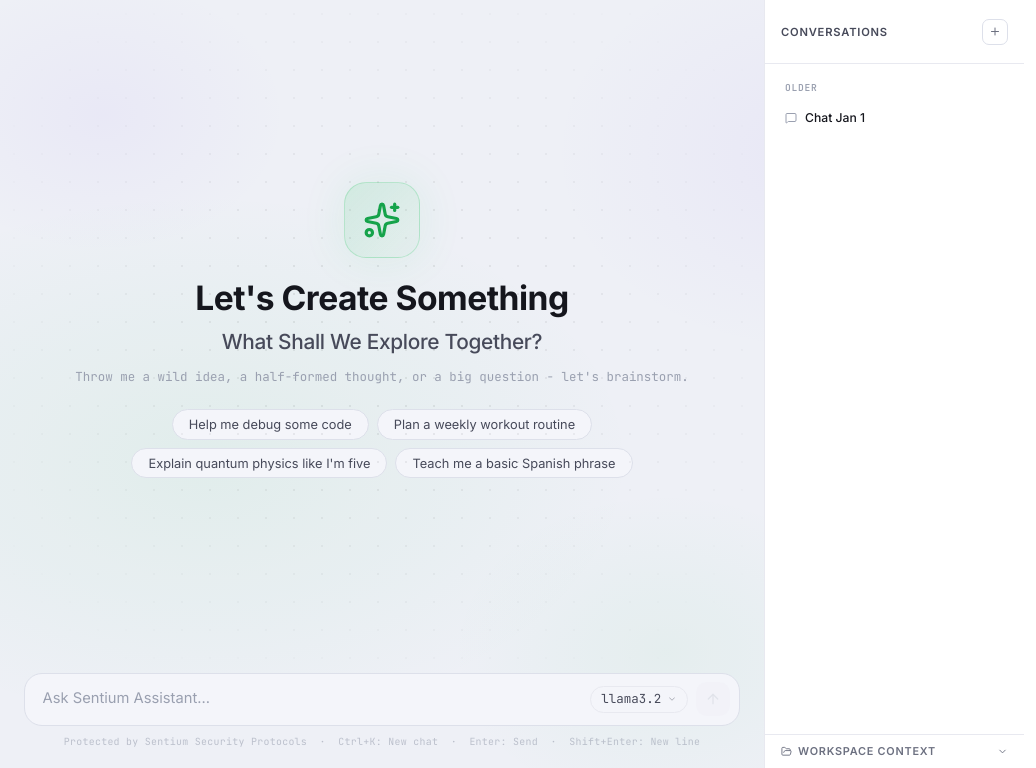
Test: Assistant message sending › send button is enabled after typing
Type "Hello" into the text box with placeholder "Ask Sentium Assistant..." at coordinates (312, 699), box [43, 687, 582, 711]
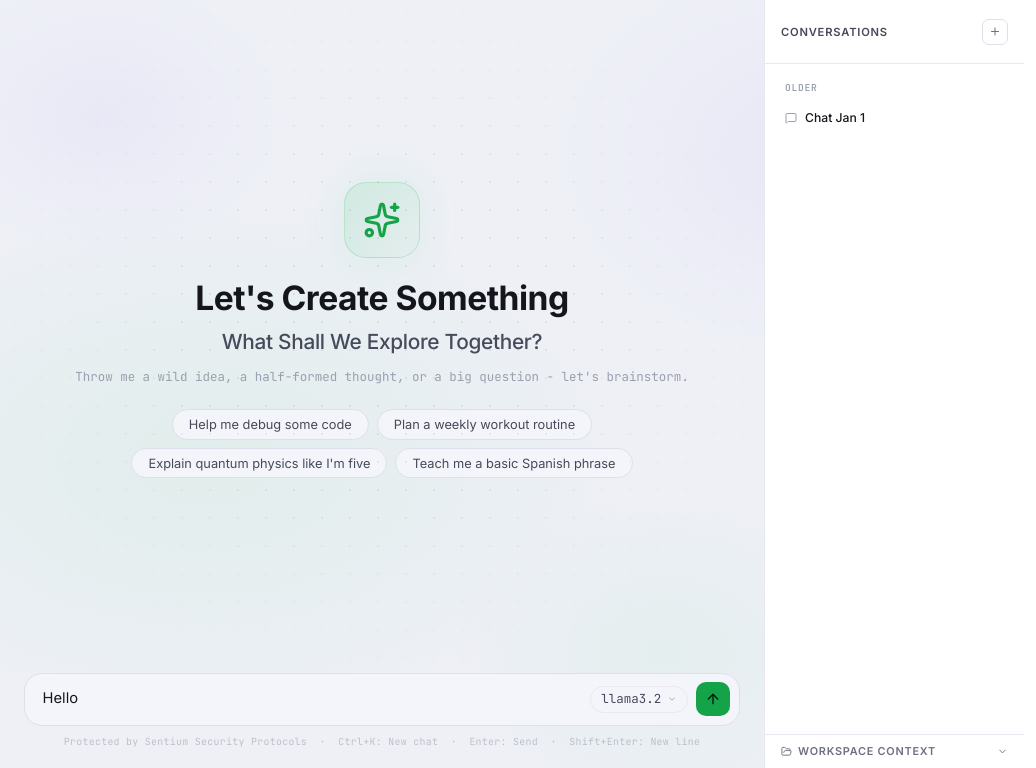
Now the submit button is enabled, box [696, 682, 730, 716]
